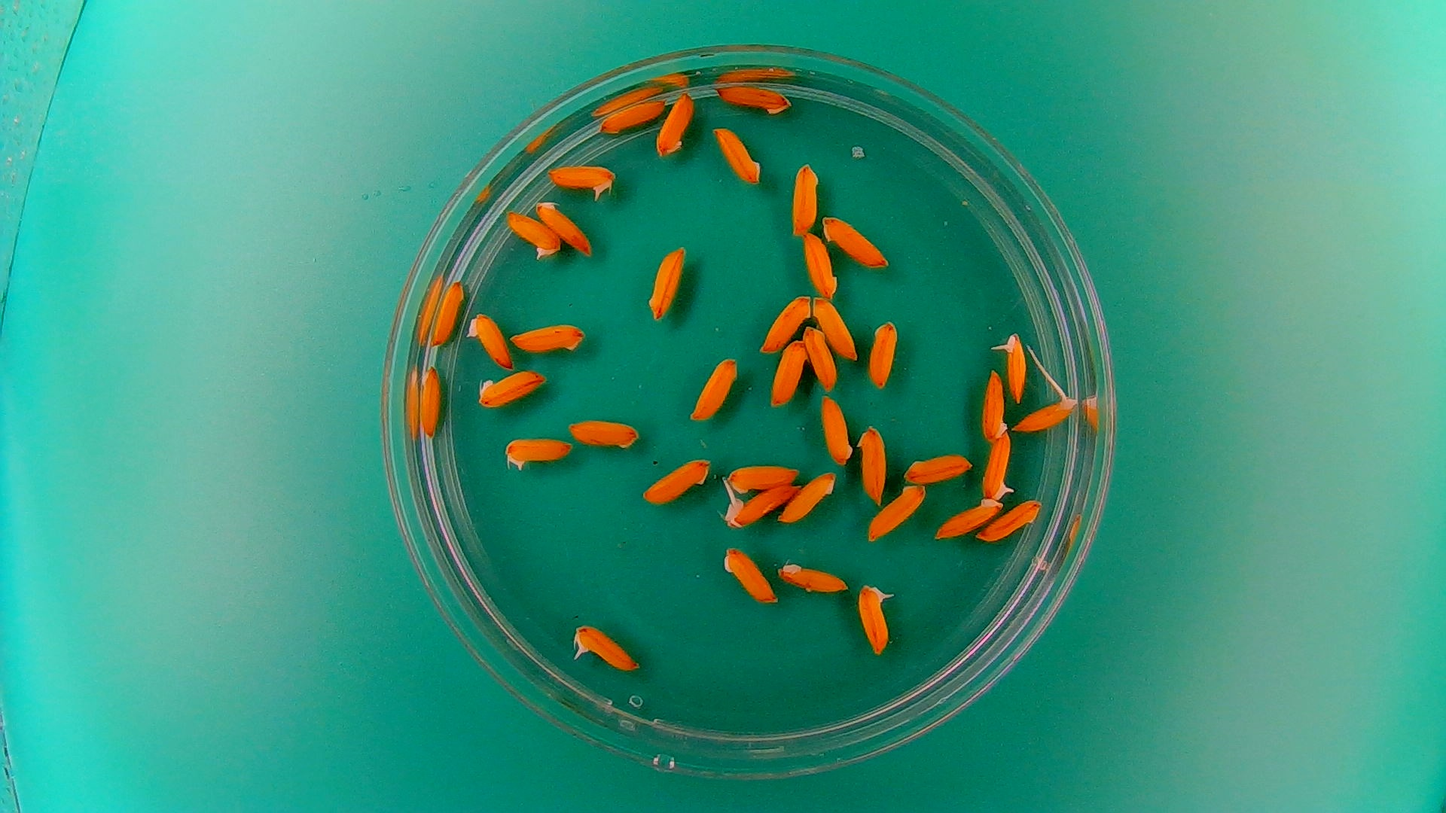no: (820, 212, 890, 269), (638, 454, 712, 507), (865, 481, 928, 543), (532, 197, 593, 257), (721, 542, 778, 606), (688, 354, 740, 422), (776, 467, 838, 524), (758, 291, 812, 355), (932, 493, 1005, 540), (711, 123, 764, 186), (645, 242, 687, 321), (474, 367, 548, 410), (812, 295, 859, 362), (977, 497, 1044, 544), (464, 309, 514, 371), (655, 88, 697, 159), (712, 80, 794, 116), (798, 230, 839, 302), (723, 458, 802, 495), (508, 318, 587, 355), (767, 335, 807, 406), (776, 556, 850, 594), (597, 96, 667, 136), (428, 276, 466, 349), (856, 421, 888, 507), (566, 414, 642, 450), (819, 393, 856, 466), (901, 448, 975, 483), (802, 323, 839, 391), (789, 158, 821, 236), (866, 315, 898, 389), (979, 367, 1008, 443), (417, 363, 444, 440)
yes: (568, 620, 642, 672), (720, 480, 799, 528), (856, 579, 897, 656), (502, 431, 577, 471), (503, 208, 560, 260), (545, 160, 618, 200), (1011, 391, 1076, 434), (995, 329, 1029, 403), (980, 430, 1015, 501)
